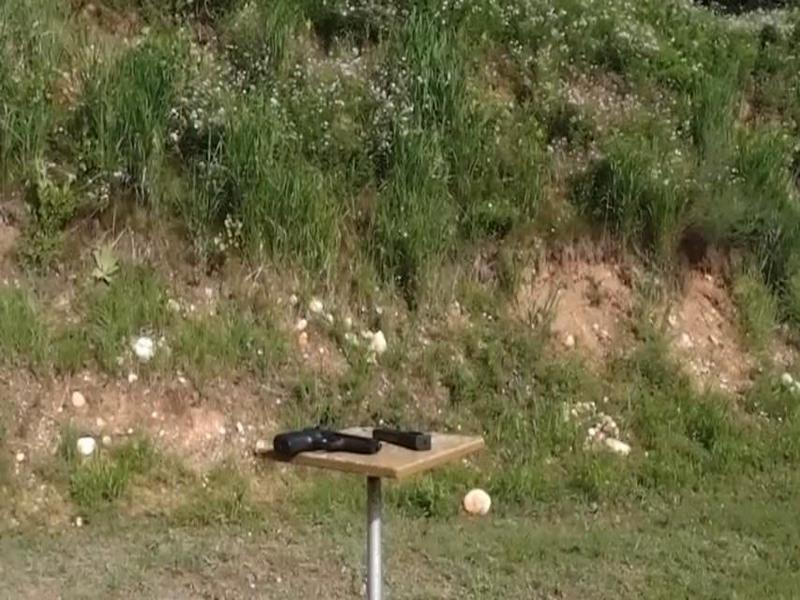Pistola: (265, 414, 381, 478)
